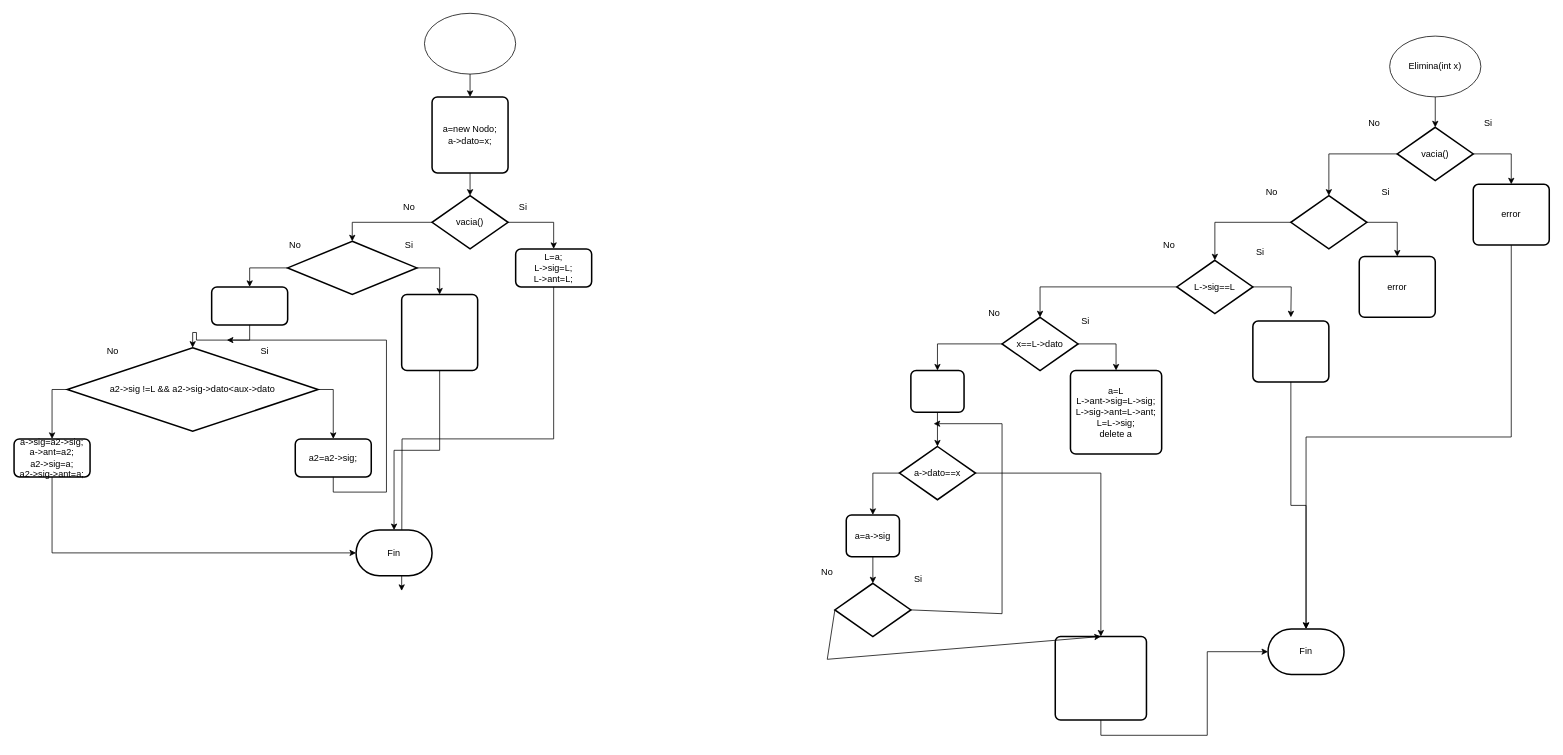
The diagram is 1563 pixels wide and 755 high, and some of its shapes have lost their labels. Each missing label, with the box of its shape:
!Buscar(int x): (1290, 195, 1367, 249)
a!=L: (834, 582, 911, 637)
a->ant->sig=a->sig; a->sig->ant=a->ant; delete a;: (1054, 635, 1147, 720)
a->dato<L->dato: (287, 240, 417, 295)
a->sig=L; L->ant->sig=a; a->ant=L->ant L->ant=a; L=a: (401, 293, 478, 371)
a2=L: (211, 286, 288, 325)
a=L;: (910, 369, 964, 413)
Agrega(int x): (424, 13, 516, 74)
delete L; Inicializa();: (1252, 320, 1329, 382)
